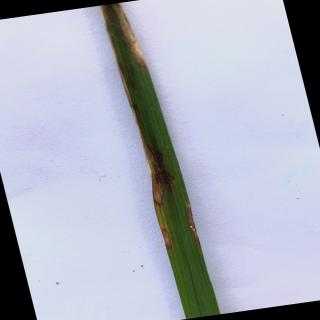Hawar-Daun: (98, 1, 139, 127), (138, 135, 178, 256), (109, 0, 150, 70), (185, 198, 202, 242)
